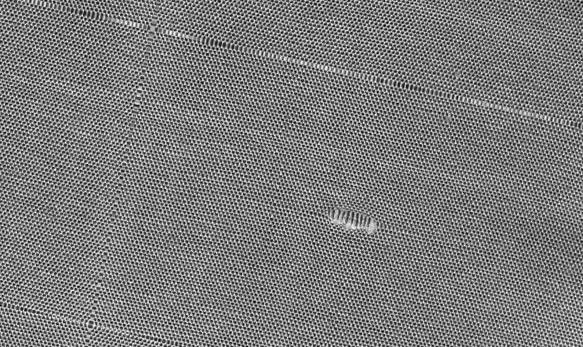slub: (315, 200, 386, 243)
